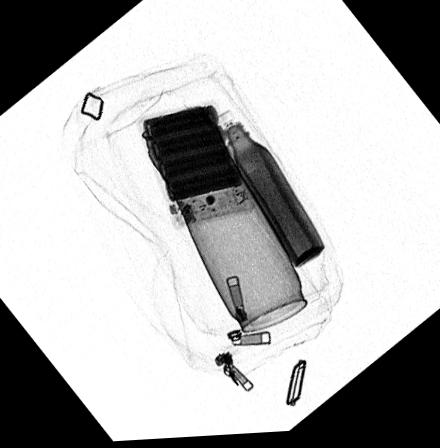Powerbank: (138, 103, 256, 231)
